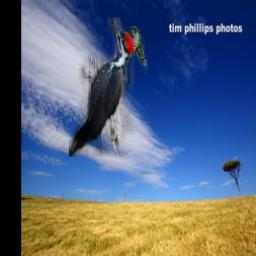Cuckoo: (132, 27, 149, 77)
Woodpecker: (70, 19, 136, 158)
